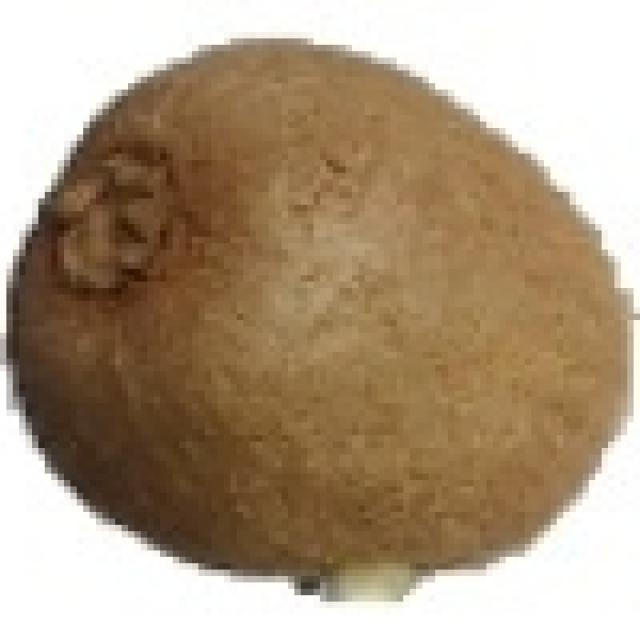kiwi: (26, 32, 634, 582)
